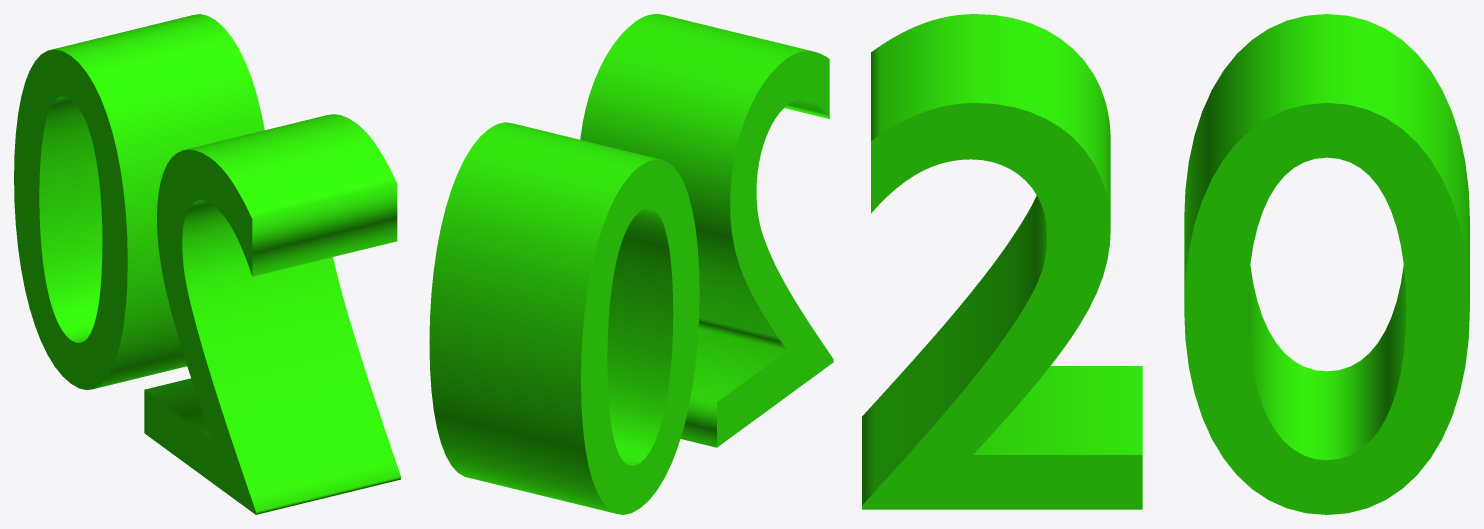
The model's file is number20.obj.
3 renders of one model, left to right at view 1: azimuth 30°, elevation 25°; view 2: azimuth 150°, elevation 25°; view 3: azimuth 270°, elevation 25°, orthographic. The views are drawn at different scales.
Parts seen in each view (by area): view 1: Text.024_Text.031; view 2: Text.024_Text.031; view 3: Text.024_Text.031.
Part boxes in pixels (left/top/right/bottom): Text.024_Text.031: left=14, top=14, right=400, bottom=514; Text.024_Text.031: left=429, top=14, right=833, bottom=514; Text.024_Text.031: left=862, top=14, right=1469, bottom=514.
Bounding box in the file's own units: 2.23 × 4.83 × 6.45.
